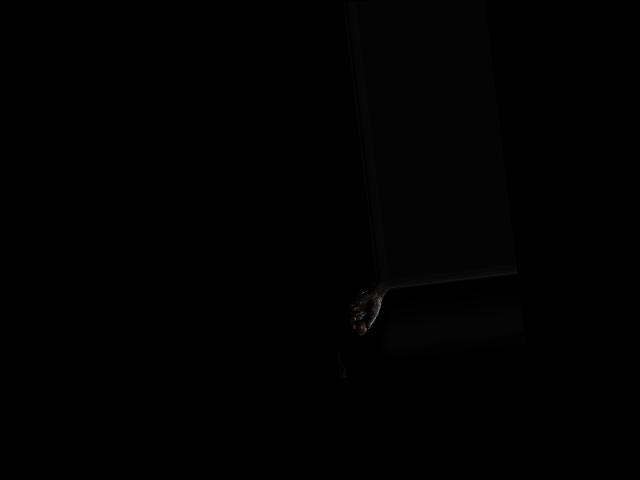egg: (354, 318, 367, 335)
